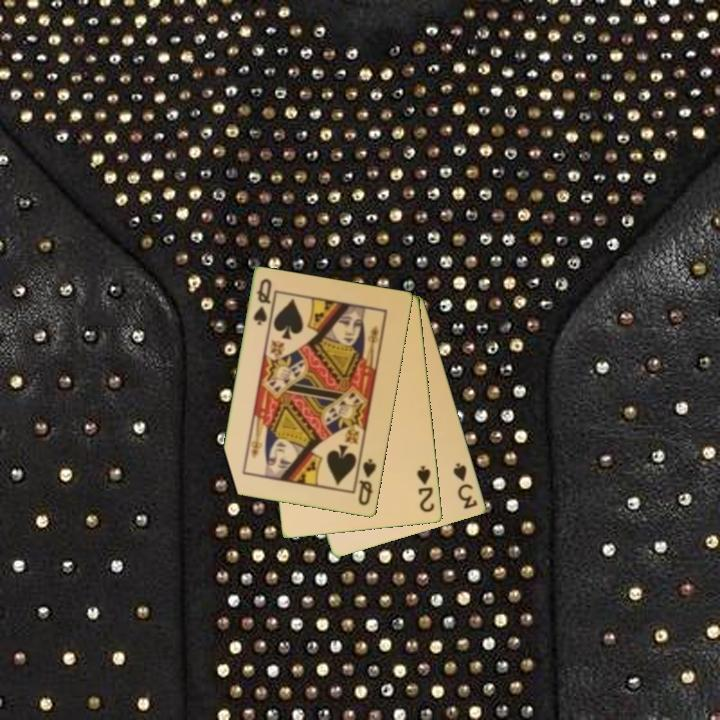2s: (414, 462, 437, 516)
3s: (450, 459, 481, 512)
Qs: (250, 275, 275, 328), (355, 456, 379, 509)
